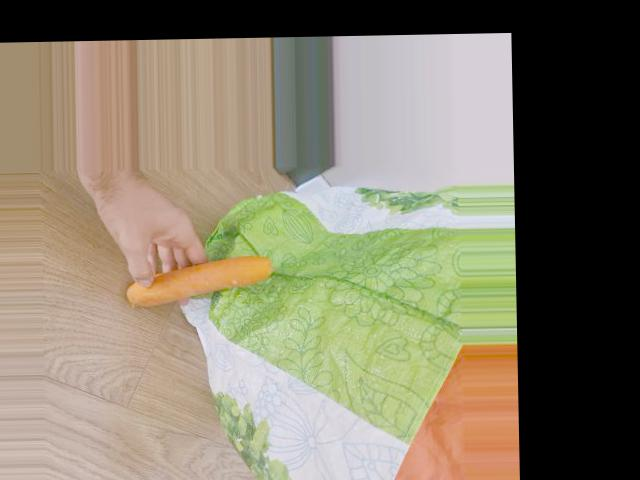carrot: (122, 262, 270, 309)
